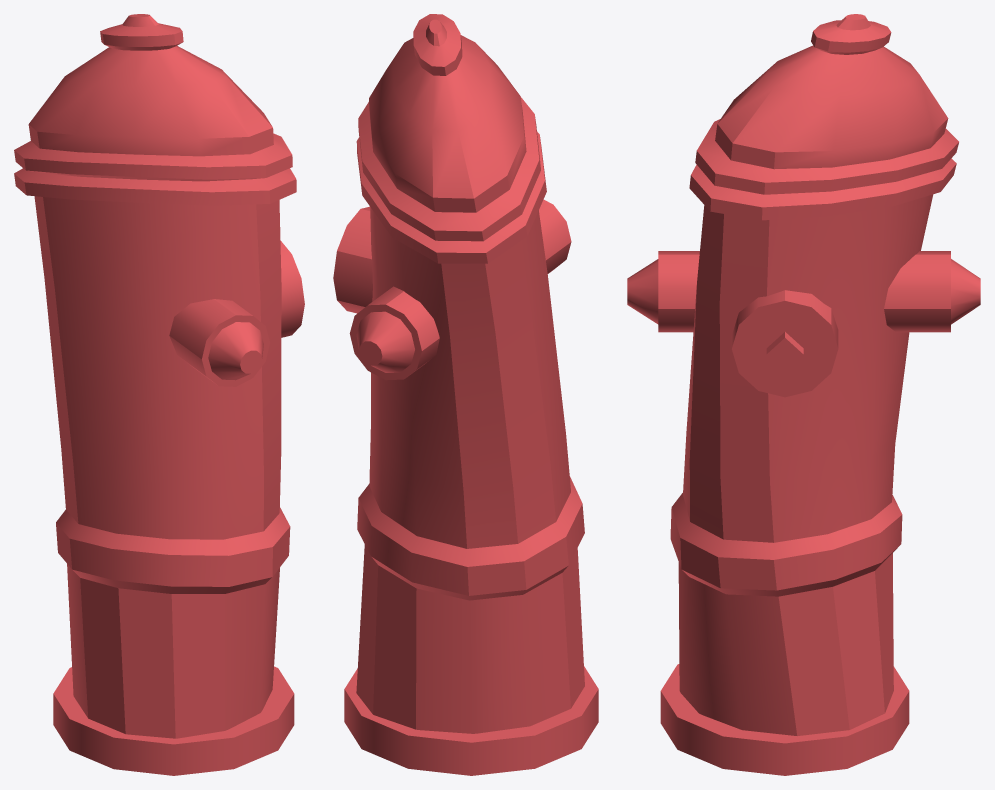
File: hydrant.fbx
3 renders of one model, left to right at view 1: azimuth 30°, elevation 25°; view 2: azimuth 150°, elevation 25°; view 3: azimuth 270°, elevation 25°, orthographic. The views are drawn at different scales.
Parts seen in each view (by area): view 1: Cylinder.025, Cylinder.028, Cylinder.027, Cylinder.026; view 2: Cylinder.025, Cylinder.028, Cylinder.027, Cylinder.026; view 3: Cylinder.025, Cylinder.028, Cylinder.027, Cylinder.026.
Boxes of the visible parts, bbox=[...] form: Cylinder.025: bbox=[14, 14, 296, 738]; Cylinder.028: bbox=[53, 666, 294, 775]; Cylinder.027: bbox=[169, 299, 270, 386]; Cylinder.026: bbox=[280, 240, 304, 337]; Cylinder.025: bbox=[356, 14, 584, 733]; Cylinder.028: bbox=[344, 666, 598, 775]; Cylinder.027: bbox=[349, 199, 571, 380]; Cylinder.026: bbox=[333, 206, 372, 313]; Cylinder.025: bbox=[670, 14, 958, 735]; Cylinder.028: bbox=[660, 664, 909, 775]; Cylinder.027: bbox=[627, 251, 980, 332]; Cylinder.026: bbox=[731, 290, 838, 397].
Size of the model in its own units: 38.57 by 114 by 51.58.
